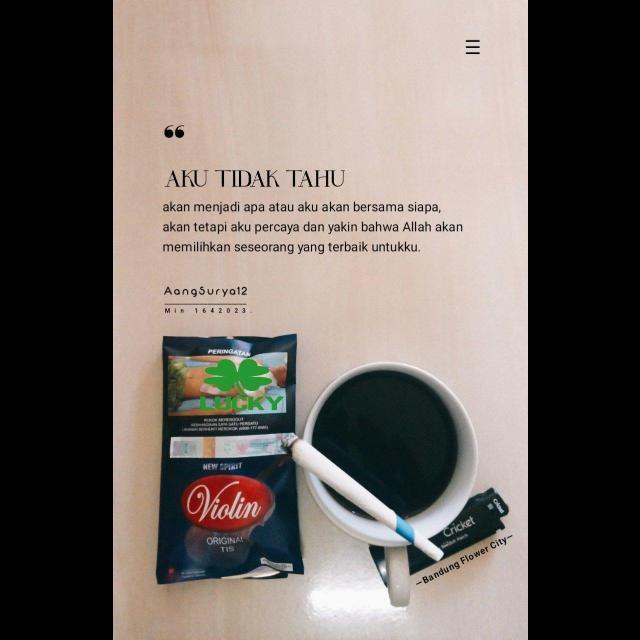rokok: (278, 424, 446, 564)
